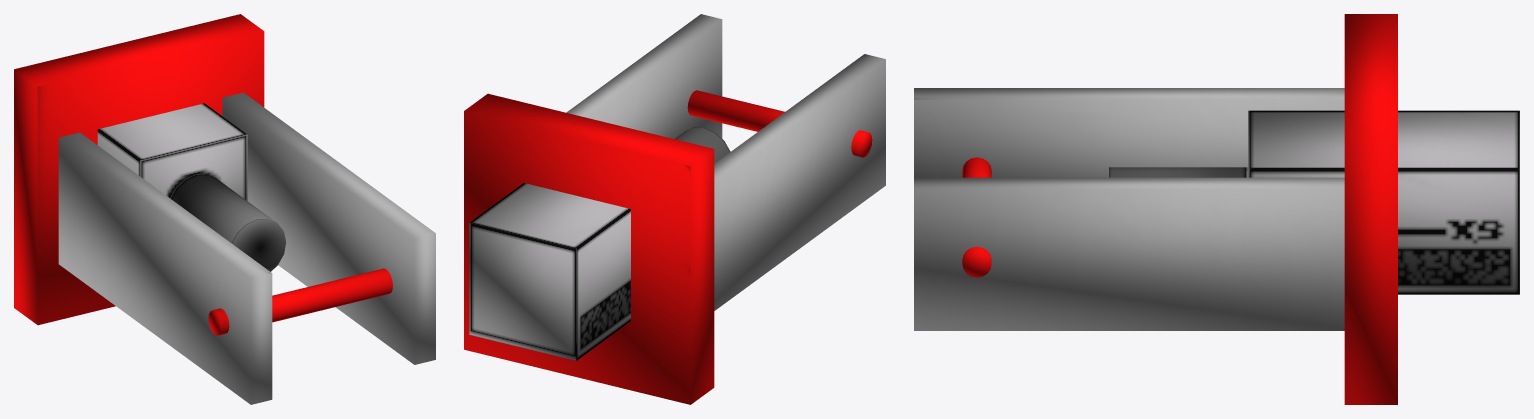
The model's file is turret.fbx.
3 renders of one model, left to right at view 1: azimuth 30°, elevation 25°; view 2: azimuth 150°, elevation 25°; view 3: azimuth 270°, elevation 25°, orthographic. The views are drawn at different scales.
Visible parts, largest first — view 1: Cube, head; view 2: Cube, head; view 3: Cube, head.
Boxes of the visible parts, box(x1,y1,x2,y2) form: Cube: box(14, 14, 435, 404); head: box(97, 103, 286, 271); Cube: box(464, 14, 885, 404); head: box(469, 127, 730, 360); Cube: box(914, 14, 1397, 404); head: box(1109, 110, 1519, 294).
Bounding box in the file's own units: 1.99 × 2 × 4.11.
2 materials, 2 textured.
